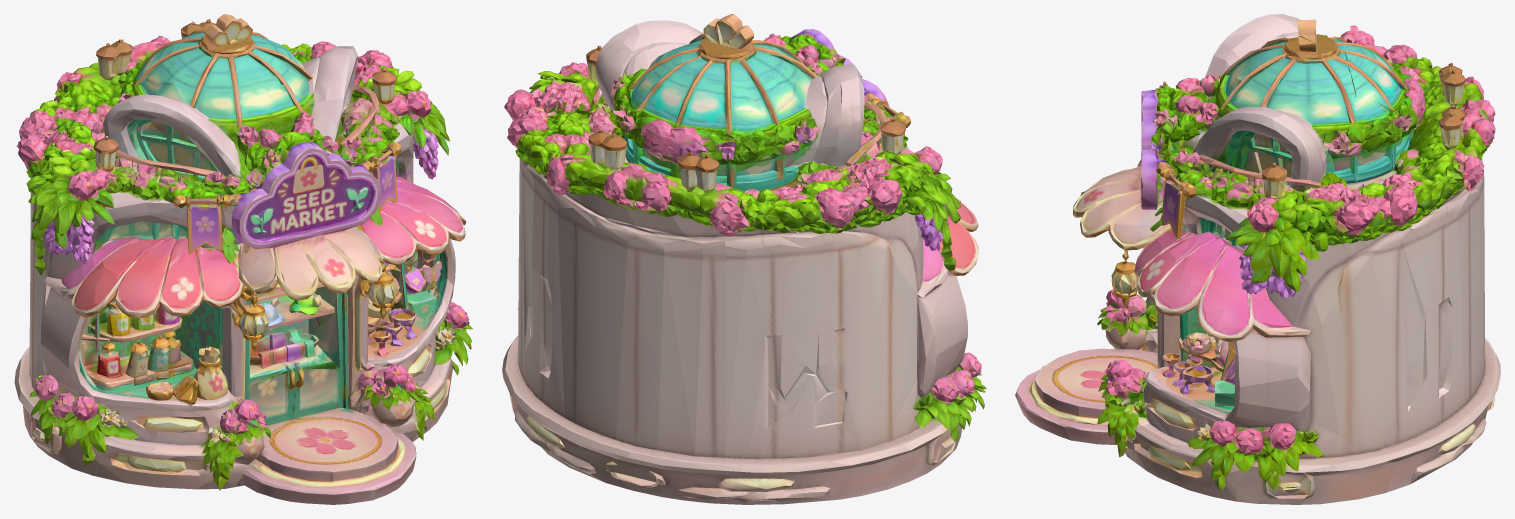
The model's file is city-market.glb.
The picture shows the model from 3 angles, left to right: view 1: azimuth 30°, elevation 25°; view 2: azimuth 150°, elevation 25°; view 3: azimuth 270°, elevation 25°; orthographic projection. The views are drawn at different scales.
Size of the model in its own units: 1.89 by 1.67 by 1.88.
1 material, 1 textured.
